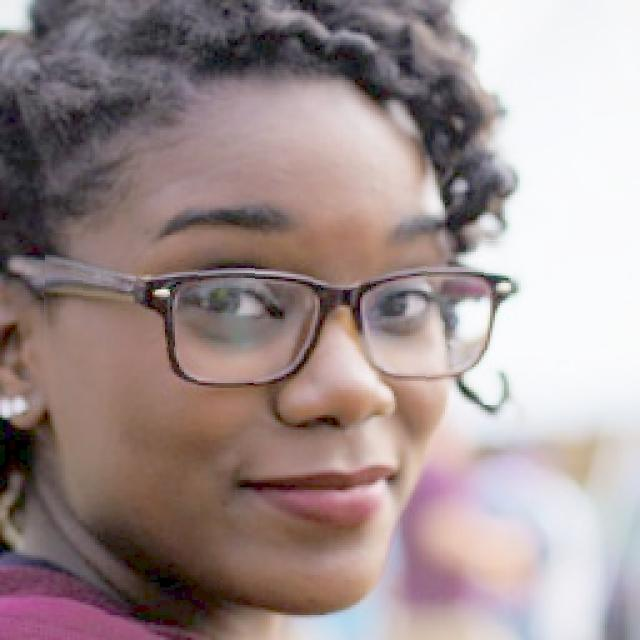glasses: (43, 235, 524, 404)
